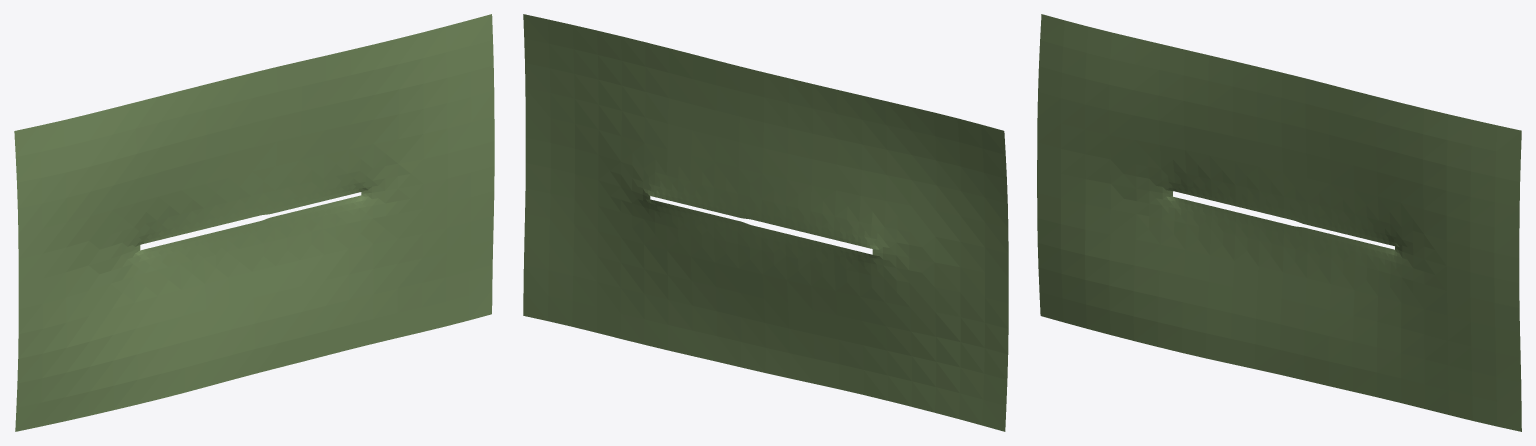
The model's file is no_lane_marking.obj.
3 views of the same model, side by side, from view 1: azimuth 30°, elevation 25°; view 2: azimuth 150°, elevation 25°; view 3: azimuth 330°, elevation 25° (orthographic).
Visible parts, largest first — view 1: Background; view 2: Background; view 3: Background.
Part boxes in pixels (x1,y1,x2,y2): Background: (14, 14, 494, 431); Background: (523, 14, 1008, 431); Background: (1037, 14, 1521, 431).
Size of the model in its own units: 800 by 480 by 21.11.
